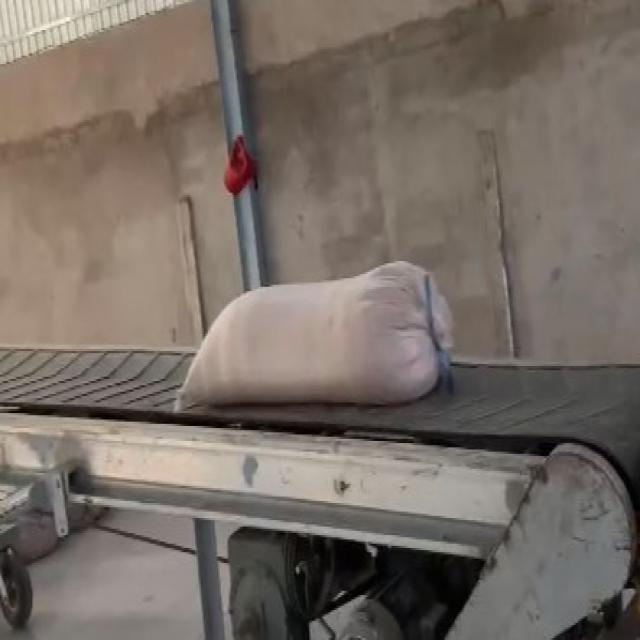gunny_bag: (176, 261, 454, 411)
